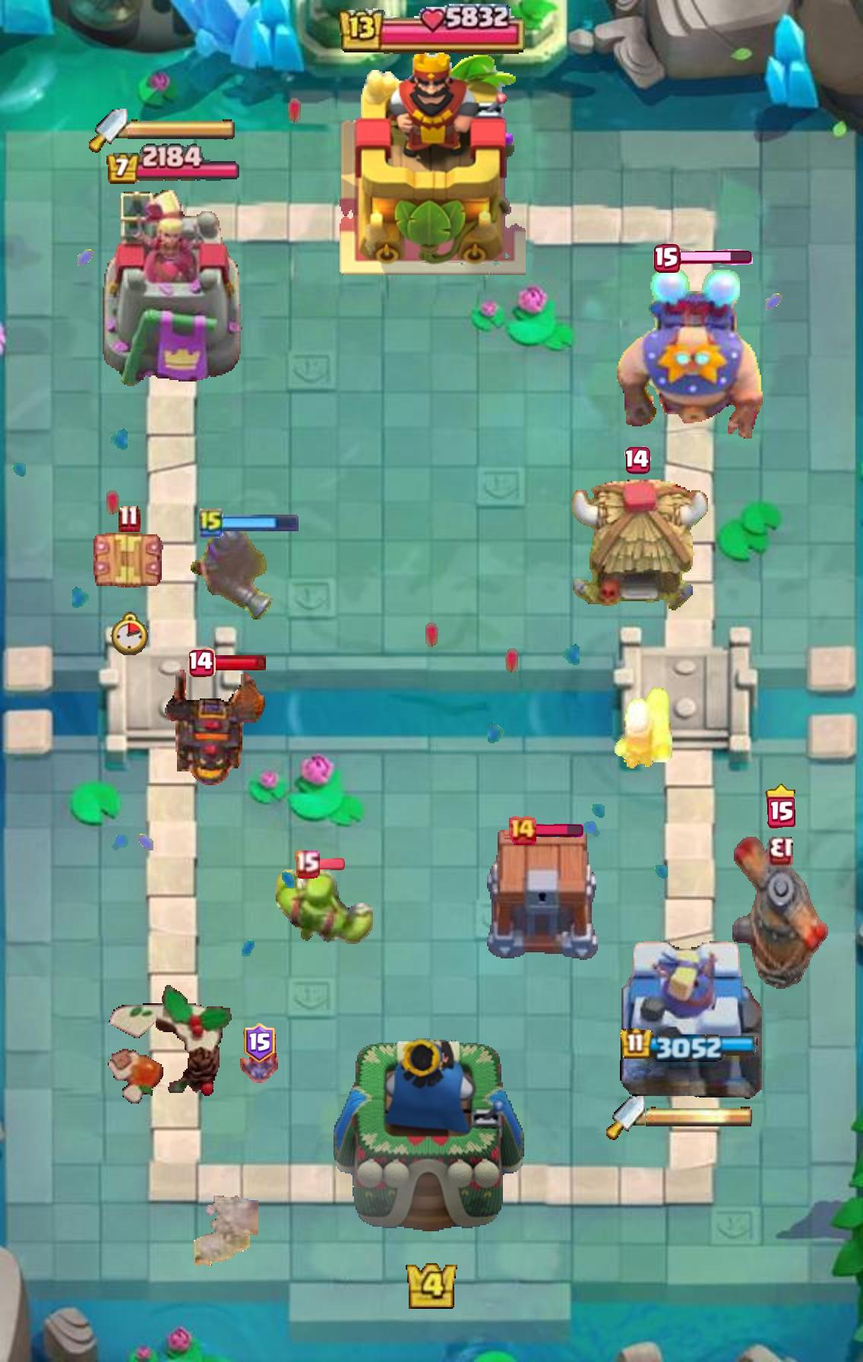bar: (677, 250, 753, 267), (212, 654, 268, 671), (533, 824, 583, 838), (316, 858, 345, 870)
bar-level: (765, 783, 795, 828), (243, 1023, 276, 1063), (507, 816, 537, 846), (188, 648, 216, 678), (653, 244, 681, 273), (294, 850, 320, 879), (625, 447, 651, 475), (118, 504, 141, 533)
